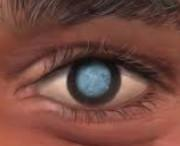eye: (67, 58, 123, 108)
